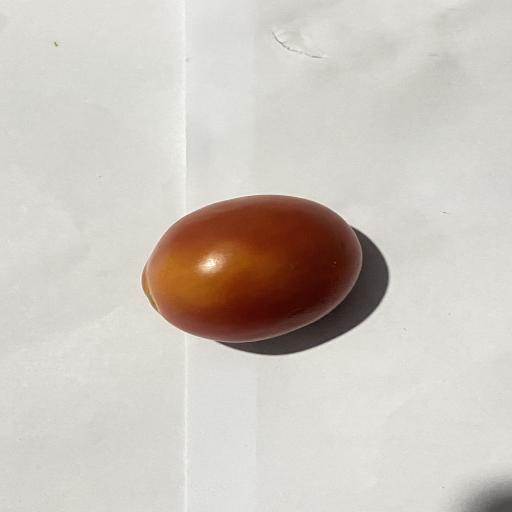ripe: (142, 195, 361, 342)
